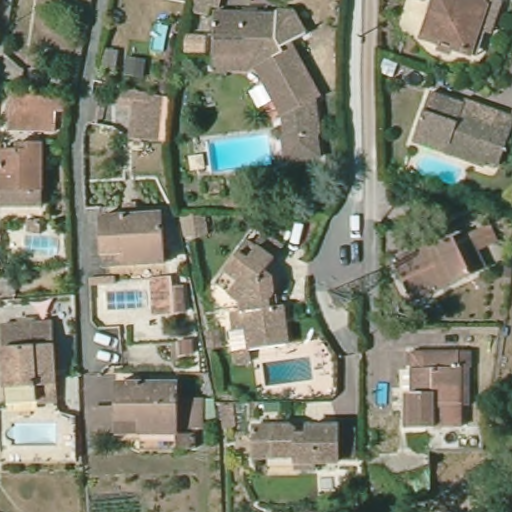pool: (204, 128, 280, 178), (253, 351, 321, 391), (402, 148, 468, 189), (2, 418, 68, 448), (13, 230, 66, 261), (104, 285, 154, 315), (143, 11, 173, 58), (369, 376, 393, 409)
